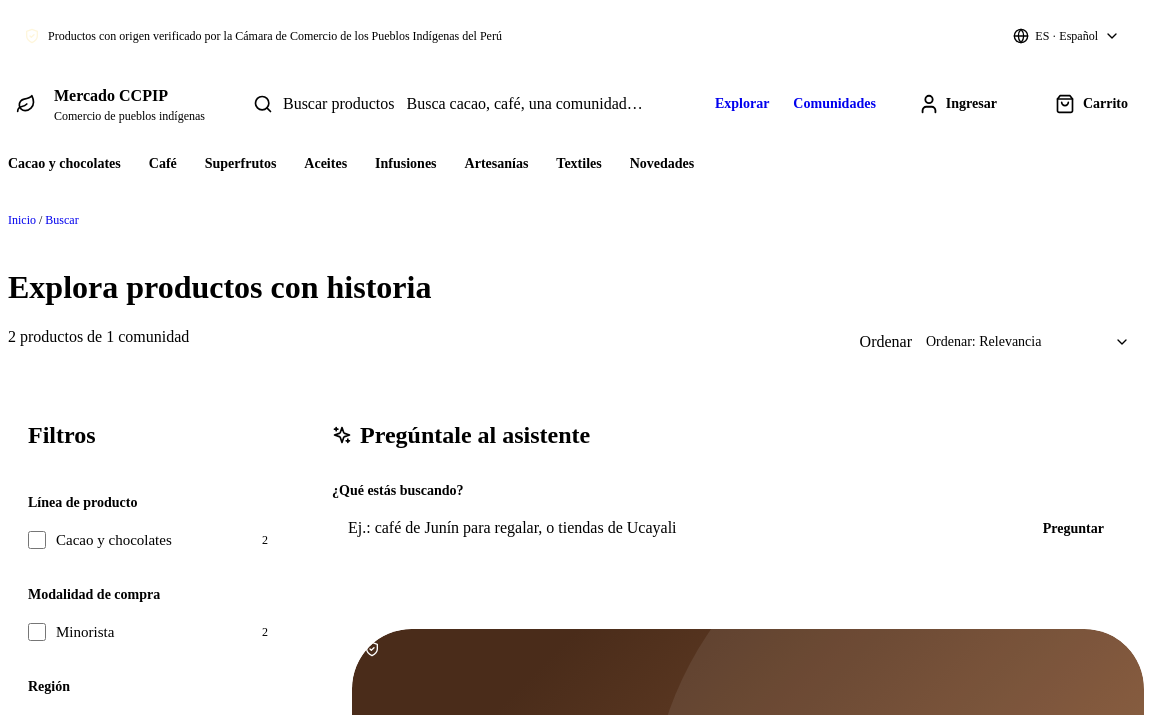
Scenario: Asistente de catálogo (CCPIP-51, CCPIP-175) › sin coincidencias muestra el texto del servidor y ningun producto
The width and height of the screenshot is (1152, 715).
Type "un televisor" into the field labelled "¿Qué estás buscando?" at (687, 528), box [332, 507, 1043, 549]
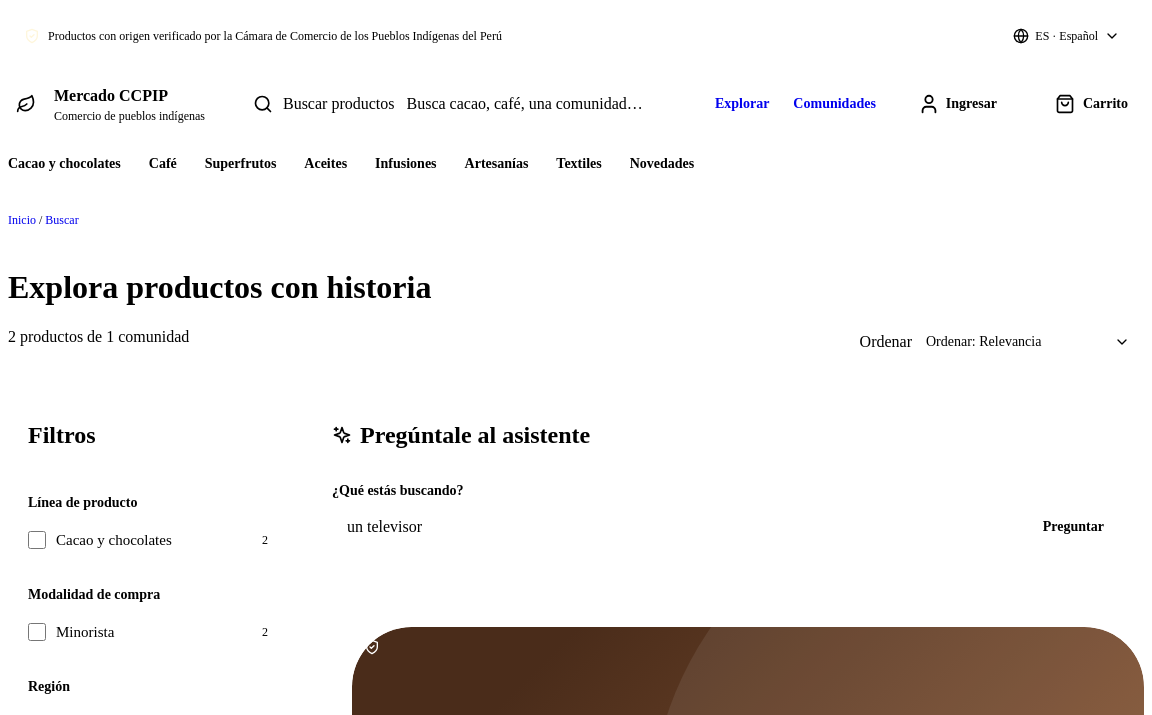
Click the button "Preguntar" at (1073, 527), box [1023, 507, 1124, 547]
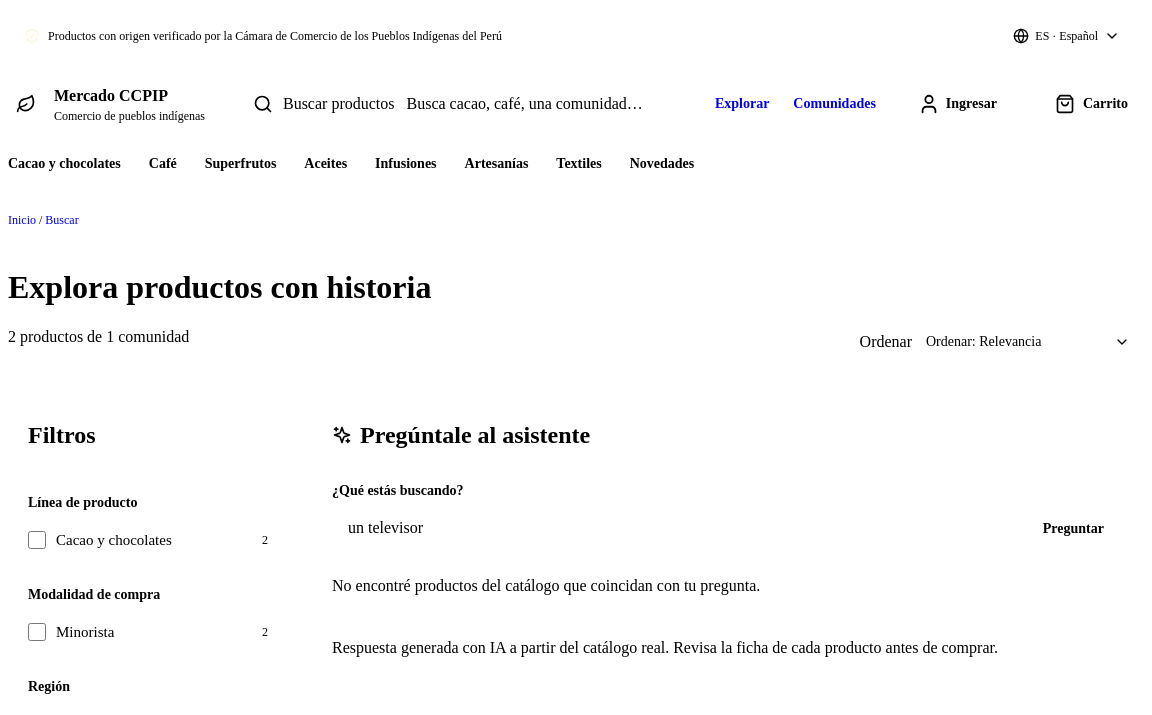
Expected: the text "No encontré productos del catálogo" is shown, [332, 577, 760, 594]
